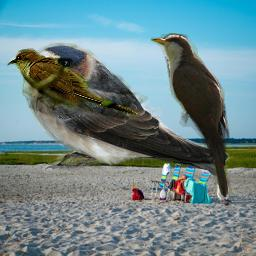Cuckoo: (150, 33, 233, 201), (7, 48, 139, 117)
Swallow: (21, 42, 231, 180)
